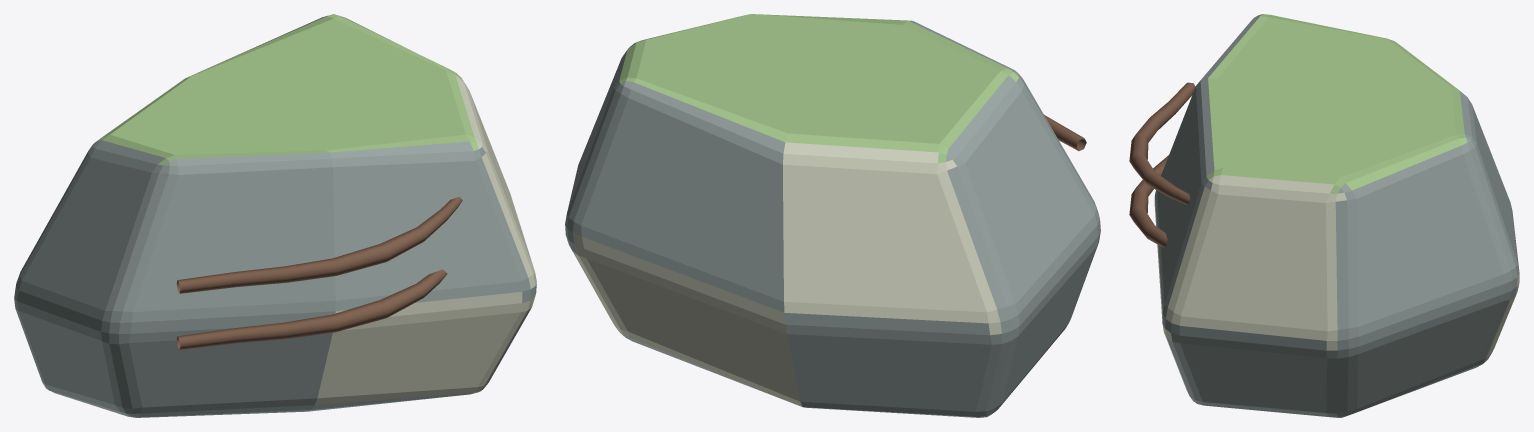
File: heaven_edge.glb
3 renders of one model, left to right at view 1: azimuth 30°, elevation 25°; view 2: azimuth 150°, elevation 25°; view 3: azimuth 270°, elevation 25°, orthographic. The views are drawn at different scales.
Parts seen in each view (by area): view 1: Merged Garden slate stone, Merged Orchard moss tips, Merged Worn ivory stepping stone, Merged Orchard exposed earth; view 2: Merged Garden slate stone, Merged Worn ivory stepping stone, Merged Orchard moss tips, Merged Orchard exposed earth; view 3: Merged Garden slate stone, Merged Orchard moss tips, Merged Worn ivory stepping stone, Merged Orchard exposed earth.
Part boxes in pixels (bbox=[...]): Merged Garden slate stone: bbox=[14, 15, 536, 417]; Merged Orchard moss tips: bbox=[94, 14, 478, 165]; Merged Worn ivory stepping stone: bbox=[88, 75, 536, 404]; Merged Orchard exposed earth: bbox=[176, 196, 462, 349]; Merged Garden slate stone: bbox=[565, 20, 1100, 417]; Merged Worn ivory stepping stone: bbox=[573, 142, 1001, 406]; Merged Orchard moss tips: bbox=[619, 14, 1018, 163]; Merged Orchard exposed earth: bbox=[1044, 114, 1086, 150]; Merged Garden slate stone: bbox=[1155, 14, 1519, 417]; Merged Orchard moss tips: bbox=[1206, 14, 1467, 193]; Merged Worn ivory stepping stone: bbox=[1154, 175, 1519, 393]; Merged Orchard exposed earth: bbox=[1129, 82, 1195, 247].
Bounding box in the file's own units: 2.18 × 1.27 × 1.69.
